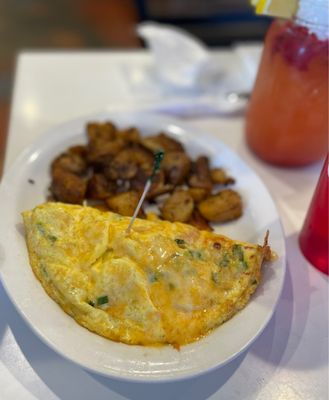pizza: (298, 153, 328, 277)
sushi: (1, 111, 297, 389)
taco: (245, 18, 328, 167)
